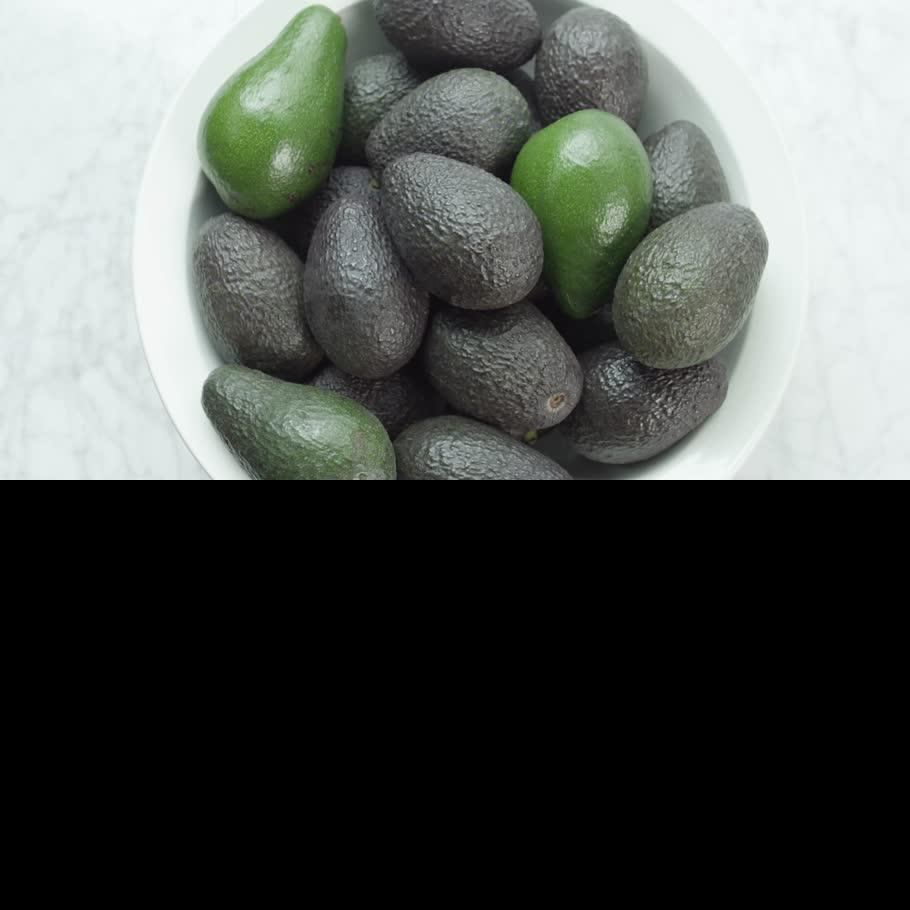almost: (200, 363, 397, 479)
ripe: (379, 151, 545, 313), (613, 203, 768, 370), (302, 194, 427, 380), (189, 212, 325, 381), (423, 296, 584, 431), (563, 340, 728, 465), (364, 68, 532, 176), (532, 6, 651, 137), (395, 413, 573, 482), (373, 1, 543, 70), (645, 121, 730, 228)
unripe: (197, 5, 342, 220), (509, 109, 653, 322)
